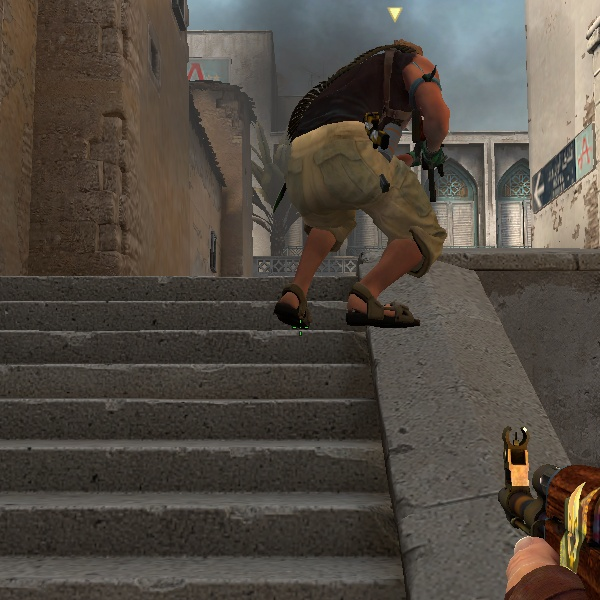t_body: (268, 32, 471, 327)
